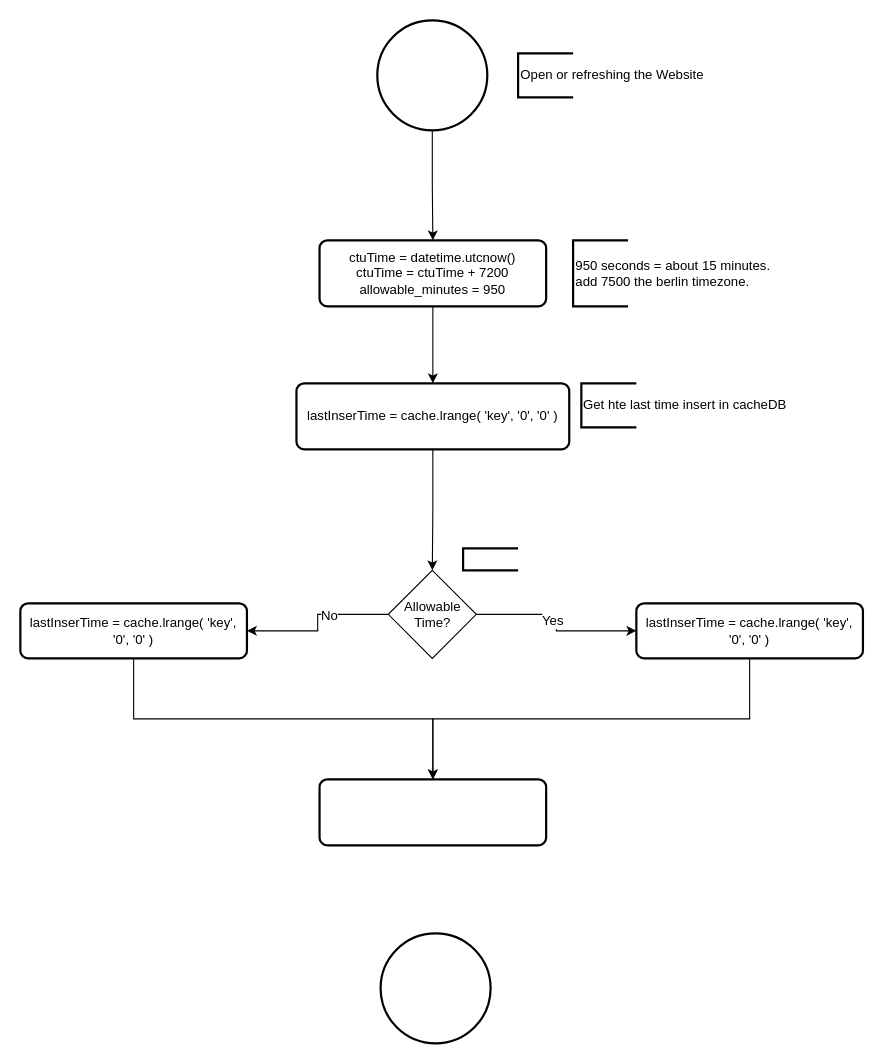
Some shapes in this 882 by 1063 pixel diagram are drawn without their labels. The centre of each missing label's shape, as x and y in pixels:
"check if this time in Allwabel time" belongs at (x=490, y=559).
"END" belongs at (x=435, y=988).
"output socketio.emit( 'htmlKey', weathrData)" belongs at (x=432, y=812).
"Start" belongs at (x=432, y=75).
